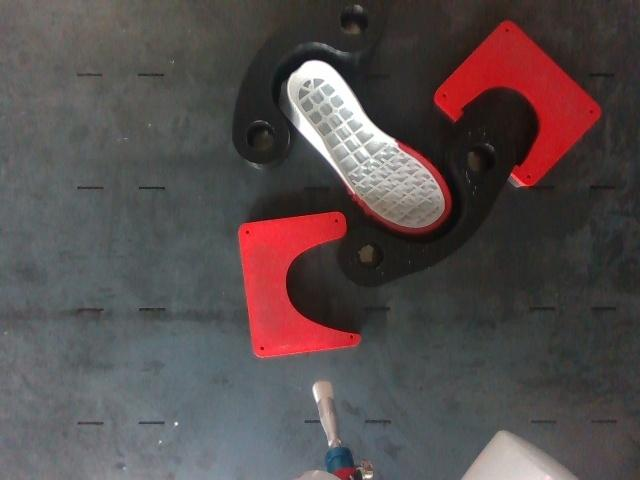shoes: (290, 62, 450, 230)
